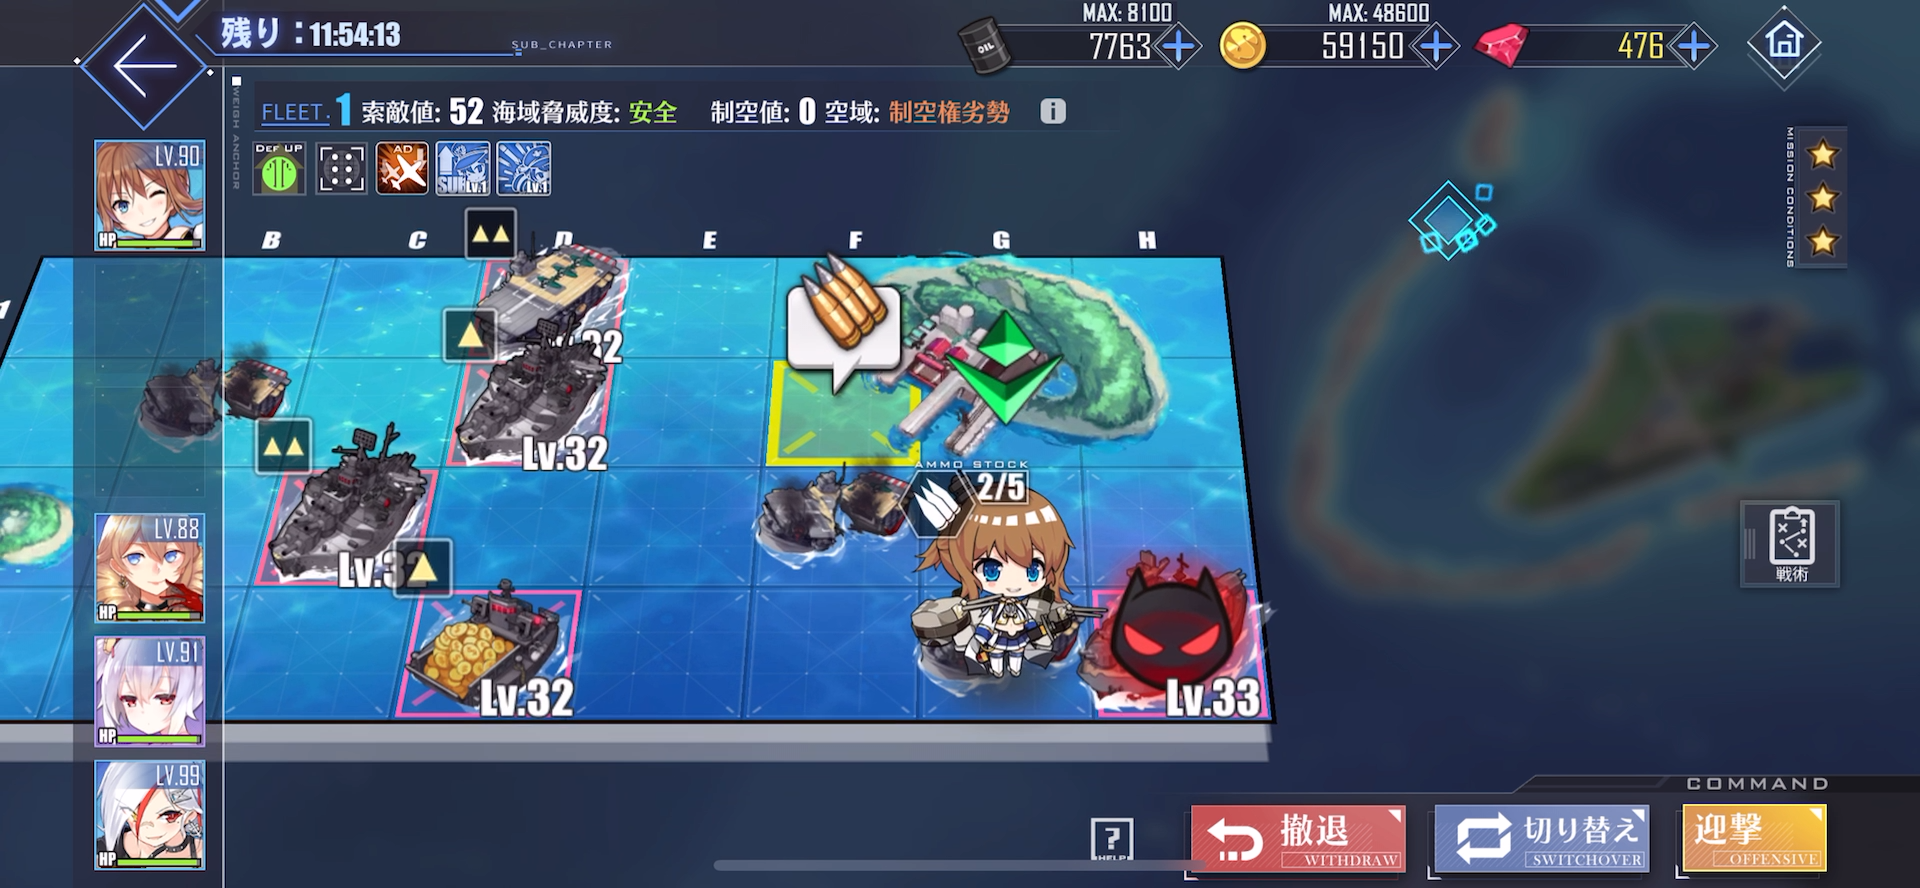boss: (1100, 559, 1262, 718)
